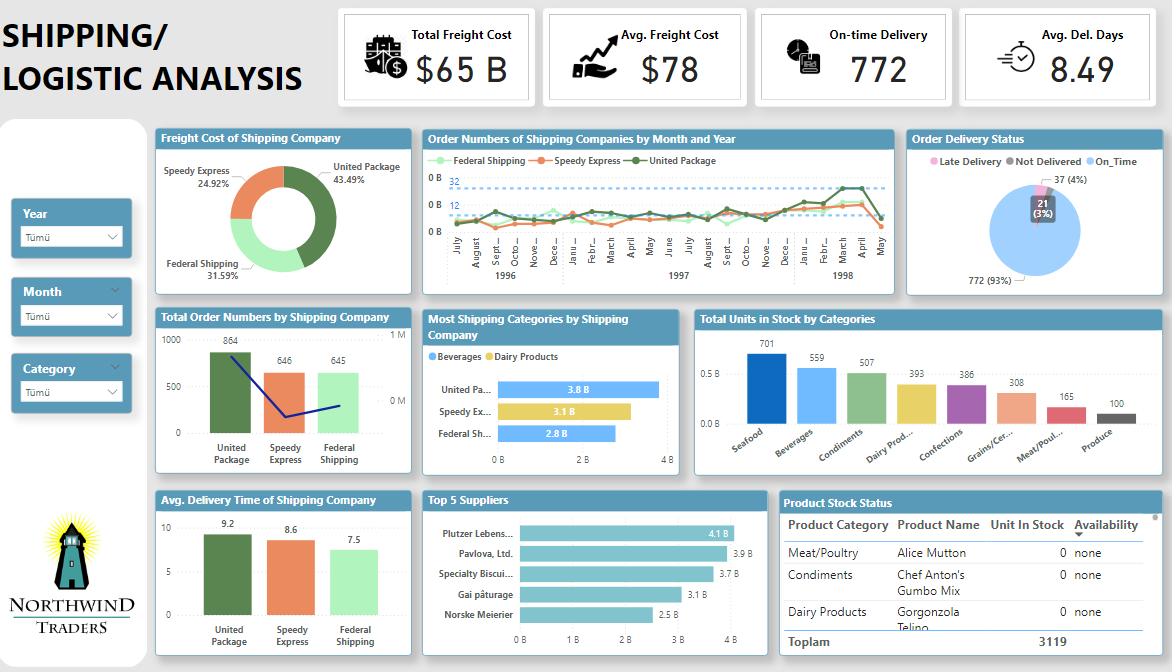

This screenshot's page, from the dashboard's own definition file:
{"tool":"powerbi","page":{"name":"Logistic Analysis","canvas":[1550,900],"ordinal":3},"visuals":[{"type":"shape","box":[0,166.3,197.9,723.2],"z":0},{"type":"cardVisual","fields":{"Data":["Sum(TotalFreightCost.total_freight_cost)"]},"box":[450,20,260,130],"z":1000},{"type":"pieChart","title":"Order Delivery Status","fields":{"Y":["Sum(Late Delivery Orders.late_delivery_count)","Sum(Not Delivered Orders.not_delivered_count)","Sum(On-time Delivery Orders.on_time_delivery_count)"]},"box":[1200,180,340.5,220],"z":2000},{"type":"lineChart","title":"Order Numbers of Shipping Companies by Month and Year","fields":{"Category":["Monthly Shipping Number.year","Monthly Shipping Number.MonthName"],"Y":["Sum(Monthly Shipping Number.order_count)"],"Series":["Monthly Shipping Number.shipping_company"]},"box":[560.9,179.5,624.2,219.1],"z":3000},{"type":"columnChart","title":"Avg. Delivery Time of Shipping Company","fields":{"Category":["Avg.DeliverybyShippers.shipping_company"],"Y":["Sum(Avg.DeliverybyShippers.average_delivery_days)"]},"box":[208.5,655.9,339.1,219.1],"z":4000},{"type":"lineStackedColumnComboChart","title":"Total Order Numbers by Shipping Company","fields":{"Category":["OrderNumberShippingCompany.shipping_company"],"Y":["Sum(OrderNumberShippingCompany.order_count)"],"Y2":["Sum(OrderNumberShippingCompany.net_sales)"]},"box":[208.5,414.4,339.1,220.4],"z":5000},{"type":"columnChart","title":"Total Units in Stock by Categories","fields":{"Category":["Category_Instock.category"],"Y":["Sum(Category_Instock.total_units_in_stock)"]},"box":[919.8,417,618.9,220.4],"z":6000},{"type":"slicer","fields":{"Values":["DateTable.MonthName"]},"box":[18.5,374.8,159.7,79.2],"z":7000},{"type":"textbox","box":[1.5,19.4,433.5,130],"z":8000},{"type":"cardVisual","fields":{"Data":["Sum(Avg.FreightCost.average_freight)"]},"box":[720,20,269,129.6],"z":9000},{"type":"cardVisual","fields":{"Data":["Sum(Avg.Delivery Order.average_delivery_time)"]},"box":[1270,20,260,130],"z":10000},{"type":"image","box":[2.6,677,191.3,175.5],"z":11000},{"type":"slicer","fields":{"Values":["DateTable.Year"]},"box":[18.5,270.5,159.7,80.5],"z":12000},{"type":"cardVisual","fields":{"Data":["Sum(On-time Delivery Orders.on_time_delivery_count)"]},"box":[1000,20,260,129.6],"z":13000},{"type":"donutChart","title":"Freight Cost of Shipping Company","fields":{"Category":["OrderNumberShippingCompany.shipping_company"],"Y":["Sum(ShippersFreightCost.total_freight_cost)"]},"box":[208.5,178.2,339.1,220.4],"z":14000},{"type":"tableEx","title":"Product Stock Status","fields":{"Values":["ProductCategory.category_name","ProductInStock.product_name","Sum(ProductInStock.unit_in_stock)","ProductInStock.availability"]},"box":[1032,655.9,506.7,219.1],"z":15000},{"type":"barChart","title":"Most Shipping Categories by Shipping Company","fields":{"Category":["ShippersMostProduct.shipper"],"Y":["Sum(ShippersMostProduct.total_quantity)"],"Series":["ShippersMostProduct.category"]},"box":[560.9,417,340.5,220.4],"z":16000},{"type":"slicer","fields":{"Values":["public categories.category_name"]},"box":[18.5,475.1,159.7,80.5],"z":17000},{"type":"barChart","title":"Top 5 Suppliers","fields":{"Category":["SuppliersProductNumber.company_name"],"Y":["Sum(SuppliersProductNumber.total_quantity_supplied)"]},"box":[560.9,655.9,456.6,219.1],"z":18000}]}

Visuals, with their boxes in screenshot pixels (x1, y1, x2, y2), scaled from the page's 1550x900 canvas onto the 1172x672 screenshot:
shape: 0/124/150/664
cardVisual - Sum(TotalFreightCost.total_freight_cost): 340/15/537/112
"Order Delivery Status" pieChart: 907/134/1165/299
"Order Numbers of Shipping Companies by Month and Year" lineChart: 424/134/896/298
"Avg. Delivery Time of Shipping Company" columnChart: 158/490/414/653
"Total Order Numbers by Shipping Company" lineStackedColumnComboChart: 158/309/414/474
"Total Units in Stock by Categories" columnChart: 695/311/1163/476
slicer - DateTable.MonthName: 14/280/135/339
textbox: 1/14/329/112
cardVisual - Sum(Avg.FreightCost.average_freight): 544/15/748/112
cardVisual - Sum(Avg.Delivery Order.average_delivery_time): 960/15/1157/112
image: 2/505/147/637
slicer - DateTable.Year: 14/202/135/262
cardVisual - Sum(On-time Delivery Orders.on_time_delivery_count): 756/15/953/112
"Freight Cost of Shipping Company" donutChart: 158/133/414/298
"Product Stock Status" tableEx: 780/490/1163/653
"Most Shipping Categories by Shipping Company" barChart: 424/311/682/476
slicer - public categories.category_name: 14/355/135/415
"Top 5 Suppliers" barChart: 424/490/769/653
